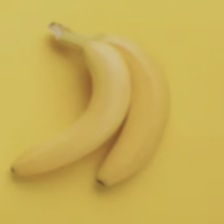banana: (40, 7, 218, 178)
